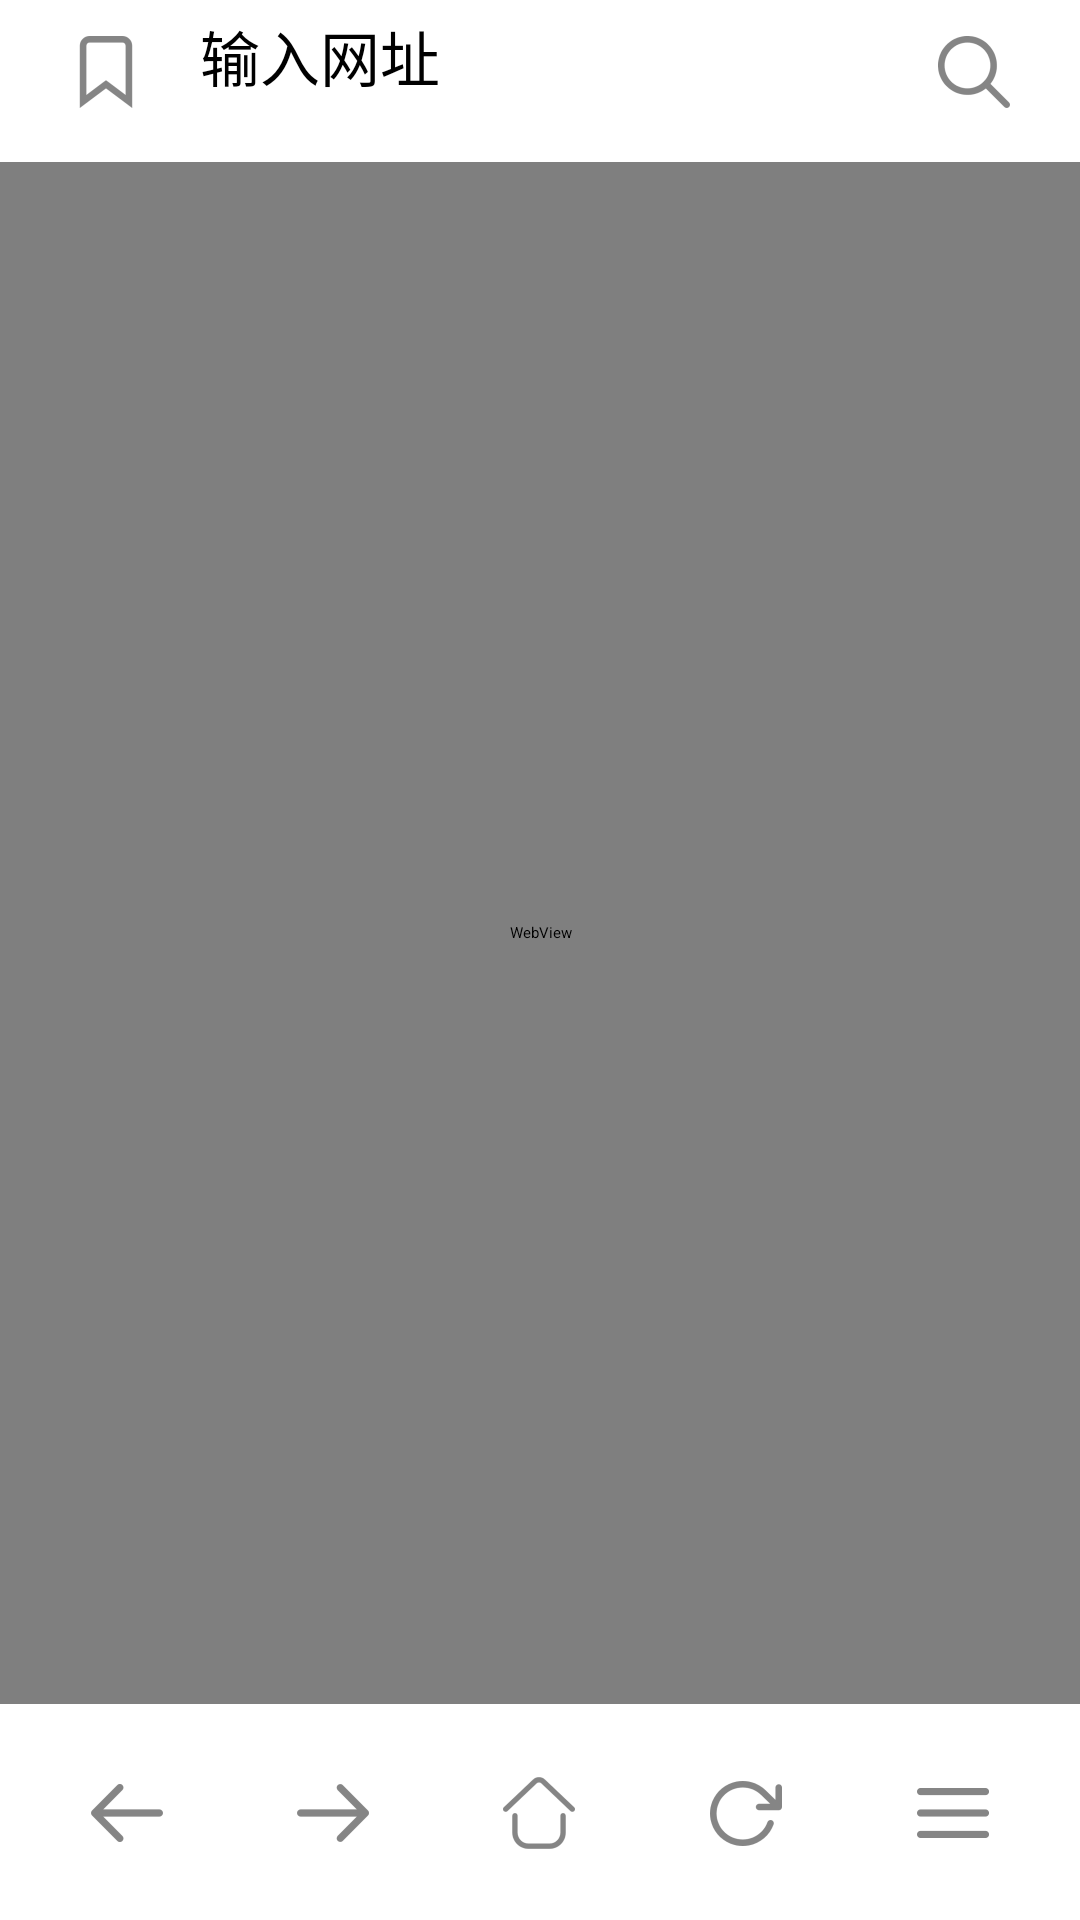

Icons on this 1080w x 1920h Android screen, each with the point to tap as [x,y]:
back: [127,1813]
collect: [106,72]
detail: [953,1813]
home: [539,1813]
next: [333,1813]
refresh: [746,1813]
search: [974,72]
